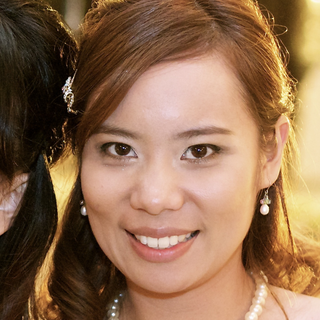eye: (178, 139, 228, 164), (94, 138, 141, 164)
